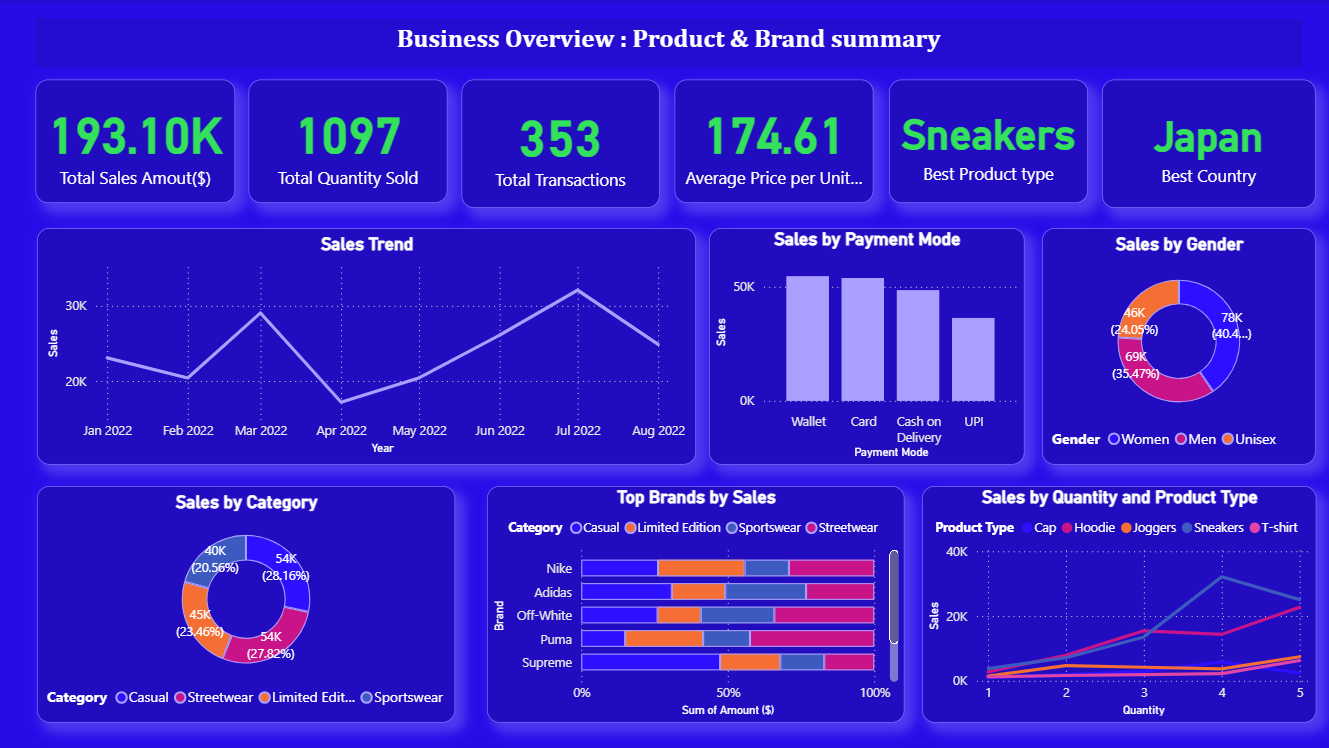

The dashboard page shown, as its layout file describes it:
{"tool":"powerbi","page":{"name":"Page 1","canvas":[1280,720],"ordinal":0},"visuals":[{"type":"card","fields":{"Values":["Sum(sneakers_streetwear_sales_data.Amount ($))"]},"box":[38.4,75.3,190.5,118.2],"z":0},{"type":"card","fields":{"Values":["Sum(sneakers_streetwear_sales_data.Quantity)"]},"box":[242.2,75.3,190,118.2],"z":1000},{"type":"card","fields":{"Values":["sneakers_streetwear_sales_data.Rows"]},"box":[446,75.3,189,122.6],"z":2000},{"type":"card","fields":{"Values":["Avg(sneakers_streetwear_sales_data.Unit Price ($))"]},"box":[648.4,75.3,190,118.2],"z":3000},{"type":"lineChart","title":"Sales  Trend","fields":{"Category":["sneakers_streetwear_sales_data.Date.Variation.Date Hierarchy.Year","sneakers_streetwear_sales_data.Date.Variation.Date Hierarchy.Month"],"Y":["sneakers_streetwear_sales_data.Sales"]},"box":[39.9,217.1,629.2,226],"z":4000},{"type":"hundredPercentStackedBarChart","title":"Top Brands by Sales ","fields":{"Category":["sneakers_streetwear_sales_data.Brand"],"Y":["Sum(sneakers_streetwear_sales_data.Amount ($))"],"Series":["sneakers_streetwear_sales_data.Category"]},"box":[469.7,463.8,398.8,226],"z":5000},{"type":"card","fields":{"Values":["sneakers_streetwear_sales_data.Best Brand"]},"box":[853.7,75.3,190,118],"z":6000},{"type":"textbox","box":[38.4,17.7,1209.6,47.3],"z":7000},{"type":"donutChart","fields":{"Y":["sneakers_streetwear_sales_data.Sales"],"Category":["sneakers_streetwear_sales_data.Category"]},"box":[39.5,464.4,399.2,226.2],"z":8000},{"type":"lineChart","fields":{"Series":["sneakers_streetwear_sales_data.Product Type"],"Category":["sneakers_streetwear_sales_data.Quantity"],"Y":["sneakers_streetwear_sales_data.Sales"]},"box":[884.7,463.8,376.6,226],"z":9000},{"type":"card","fields":{"Values":["sneakers_streetwear_sales_data.Best Country"]},"box":[1057.5,75.3,203.8,122.6],"z":10000},{"type":"donutChart","fields":{"Category":["sneakers_streetwear_sales_data.Gender"],"Y":["sneakers_streetwear_sales_data.Sales"]},"box":[999.9,217.1,261.4,226],"z":11000},{"type":"columnChart","fields":{"Category":["sneakers_streetwear_sales_data.Payment Mode"],"Y":["sneakers_streetwear_sales_data.Sales"]},"box":[682.3,217.1,301.3,226],"z":12000}]}

Visuals, with their boxes in screenshot pixels (x1, y1, x2, y2), scaled from the page's 1280x720 canvas onto the 1329x748 screenshot:
card - Sum(sneakers_streetwear_sales_data.Amount ($)): (40, 78, 238, 201)
card - Sum(sneakers_streetwear_sales_data.Quantity): (251, 78, 449, 201)
card - sneakers_streetwear_sales_data.Rows: (463, 78, 659, 206)
card - Avg(sneakers_streetwear_sales_data.Unit Price ($)): (673, 78, 870, 201)
"Sales  Trend" lineChart: (41, 226, 695, 460)
"Top Brands by Sales " hundredPercentStackedBarChart: (488, 482, 902, 717)
card - sneakers_streetwear_sales_data.Best Brand: (886, 78, 1084, 201)
textbox: (40, 18, 1296, 68)
donutChart - sneakers_streetwear_sales_data.Sales x sneakers_streetwear_sales_data.Category: (41, 482, 455, 717)
lineChart - sneakers_streetwear_sales_data.Product Type x sneakers_streetwear_sales_data.Quantity: (919, 482, 1310, 717)
card - sneakers_streetwear_sales_data.Best Country: (1098, 78, 1310, 206)
donutChart - sneakers_streetwear_sales_data.Gender x sneakers_streetwear_sales_data.Sales: (1038, 226, 1310, 460)
columnChart - sneakers_streetwear_sales_data.Payment Mode x sneakers_streetwear_sales_data.Sales: (708, 226, 1021, 460)
